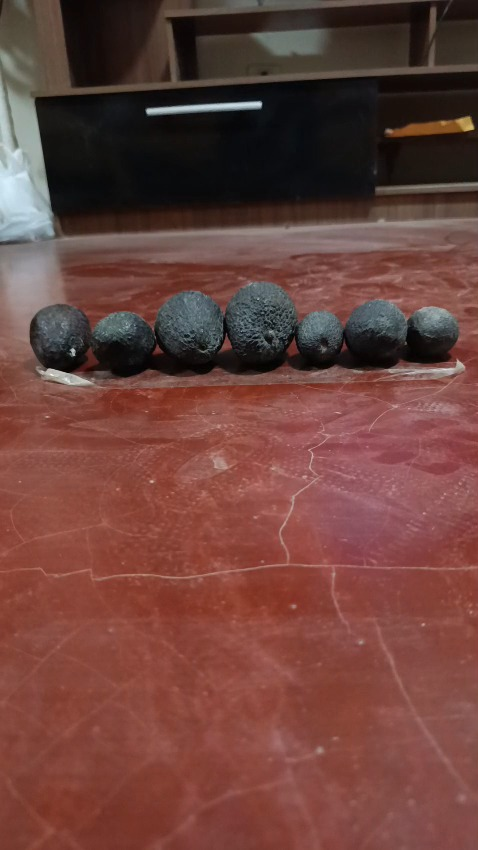Primera: (224, 280, 299, 368), (154, 289, 225, 367)
Segunda: (29, 304, 92, 371), (343, 299, 407, 364), (91, 311, 155, 375)
Tercera: (406, 305, 458, 360), (295, 310, 343, 367)
